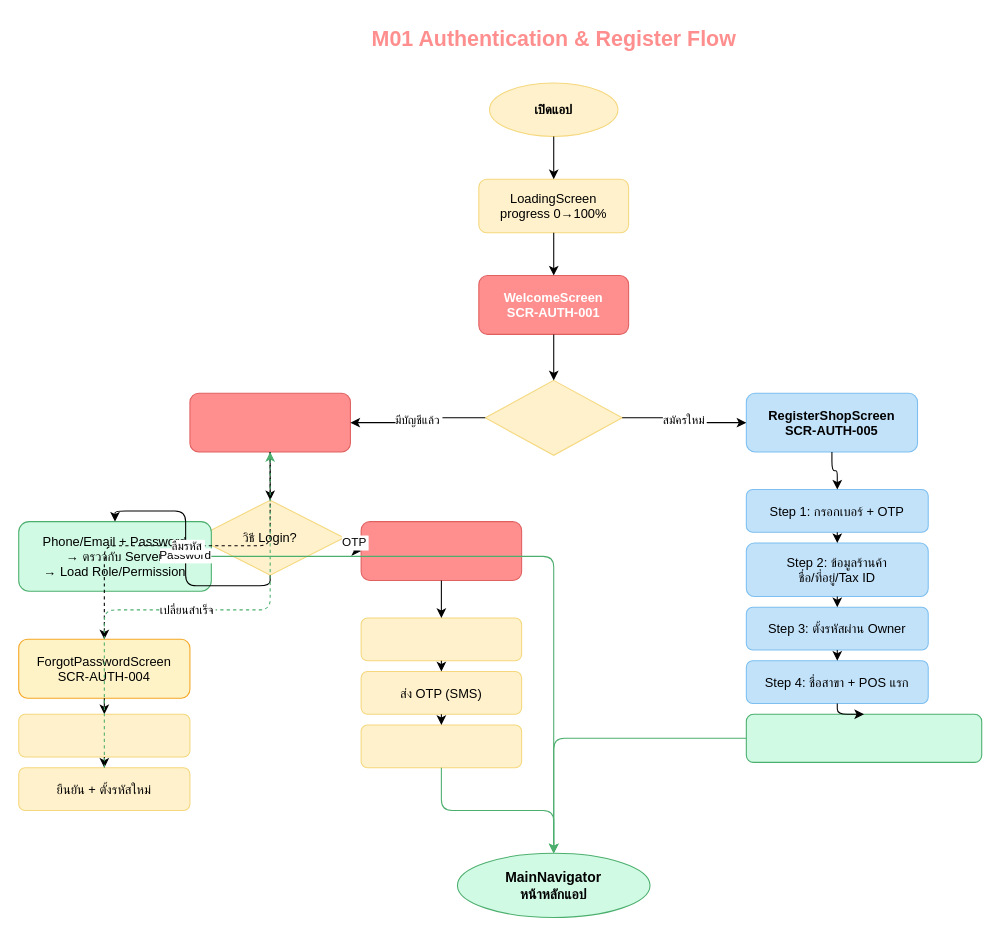
The diagram is 1005 pixels wide and 936 high, and some of its shapes have lost their labels. Each missing label, with the centre of its shape:
LoginScreen SCR-AUTH-002: the point at 269,422
OTPLoginScreen SCR-AUTH-003: the point at 441,550
กรอก OTP 6 หลัก: the point at 441,746
กรอกเบอร์โทร: the point at 441,639
เลือก: OTP หรือ Email: the point at 104,735
เลือก?: the point at 553,417
✅ สร้าง Shop+Branch+POS+User Owner: the point at 863,737
